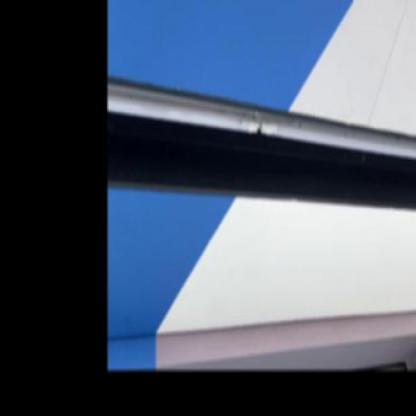light_off: (109, 43, 415, 195)
